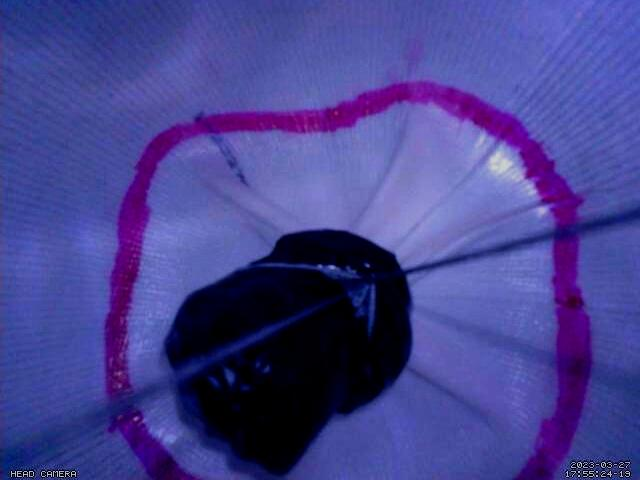red-circle: (103, 79, 591, 480)
